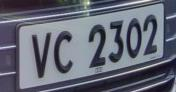0: (125, 10, 145, 65)
2: (85, 17, 109, 74), (141, 7, 160, 63)
3: (107, 14, 127, 68)
C: (52, 26, 77, 78)
V: (27, 28, 54, 84)
